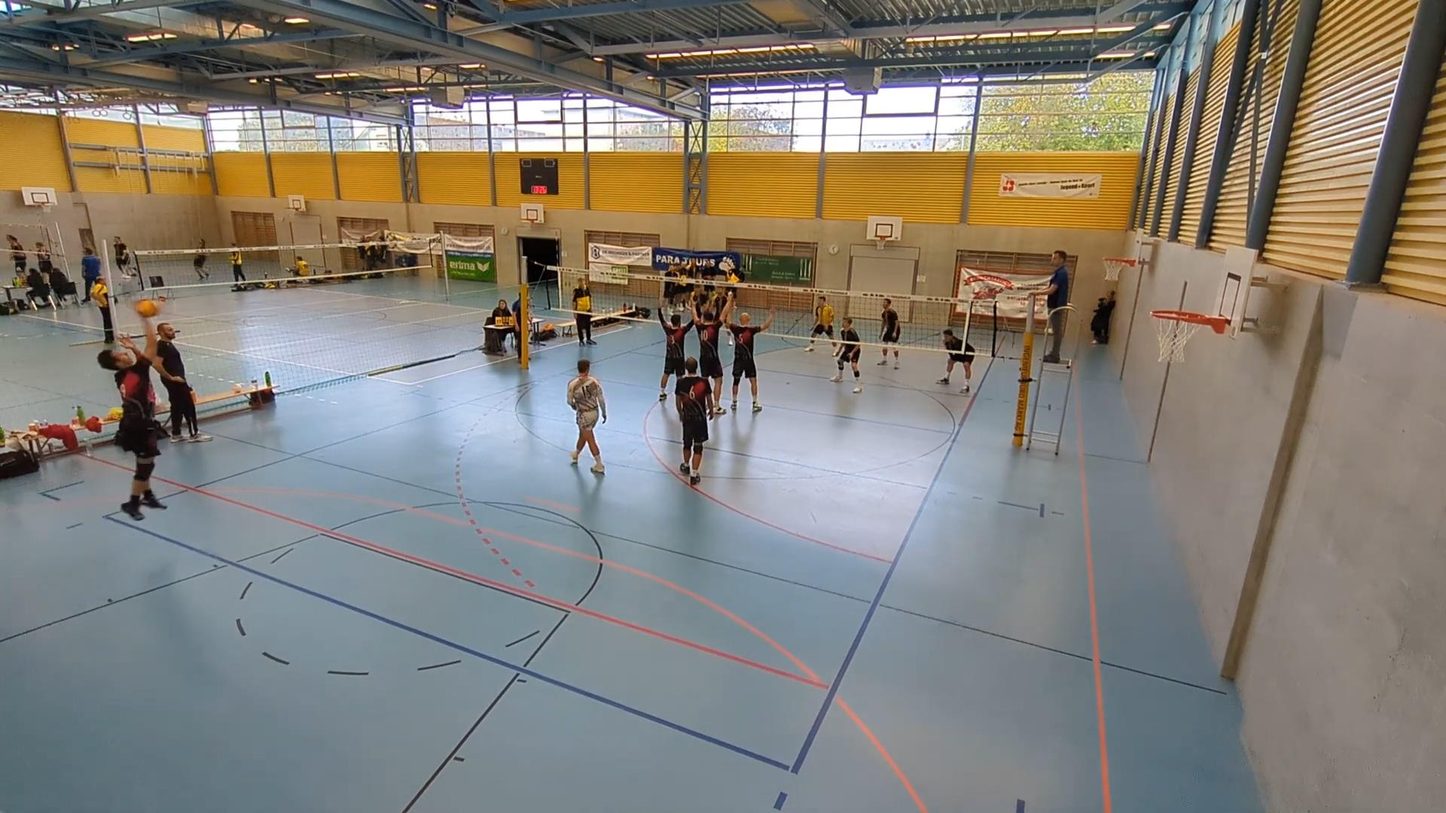battuta: (102, 323, 196, 526)
